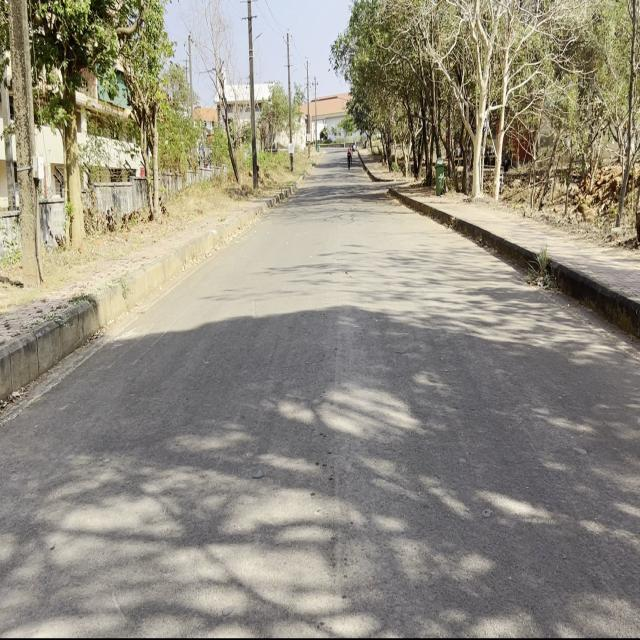Road: (6, 154, 636, 632)
